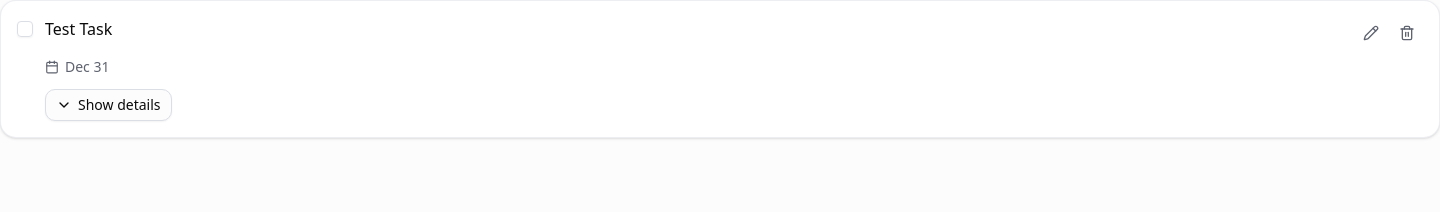
TaskItem › shows description when expand button is clicked
This screenshot has width=1440, height=212.
Click the button "Show details": (108,105) [45,89,172,121]
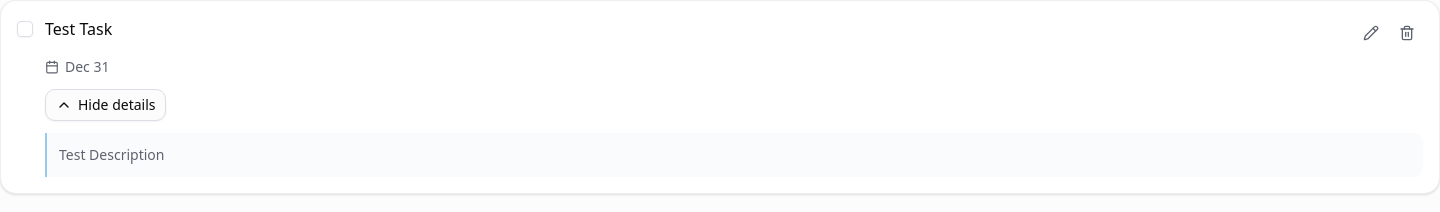
Expected: the text "Test Description" is shown, [45,133,1423,177]
